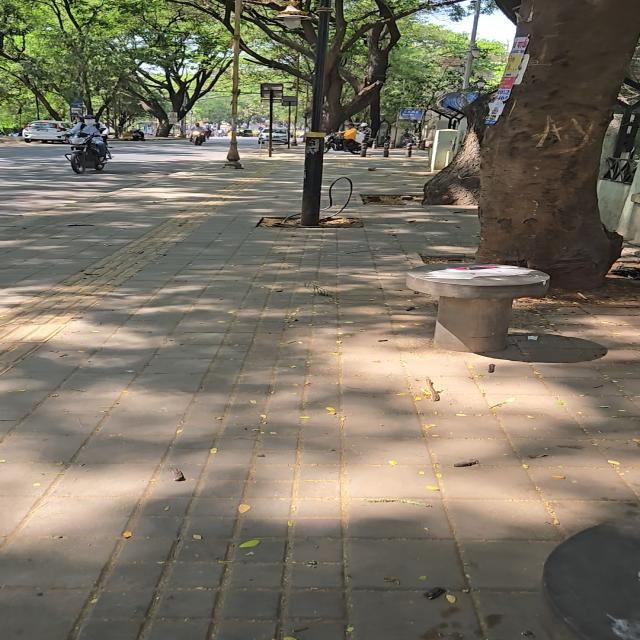obstacle: (407, 264, 549, 352), (543, 518, 639, 639), (302, 0, 330, 226), (226, 0, 242, 168), (463, 0, 481, 90), (292, 78, 299, 145), (269, 90, 273, 157), (288, 103, 291, 148), (35, 96, 40, 120), (360, 143, 367, 157), (383, 143, 389, 157), (406, 144, 412, 157), (418, 140, 425, 150), (372, 140, 378, 149), (390, 140, 395, 148)
vehicle: (131, 129, 145, 141)
